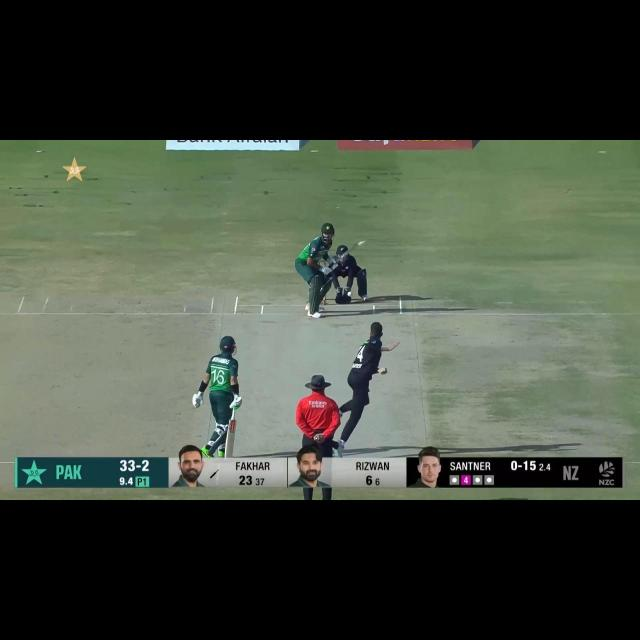bat: (329, 240, 365, 271), (224, 419, 238, 456)
toe: (354, 239, 366, 248), (224, 451, 235, 458)
